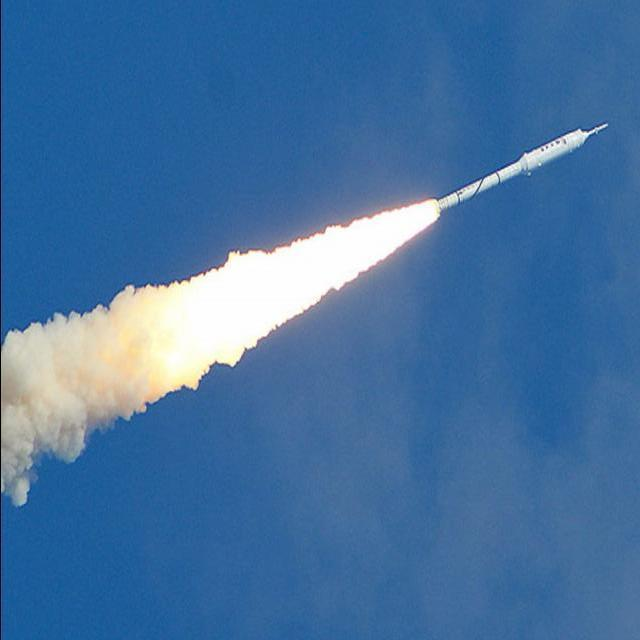missile: (415, 114, 617, 224)
